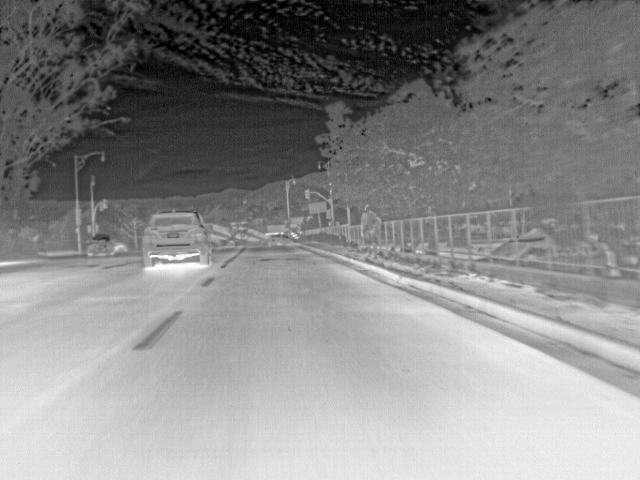car: (141, 207, 212, 266), (84, 234, 115, 257), (266, 234, 286, 248)
person: (358, 202, 381, 260)
